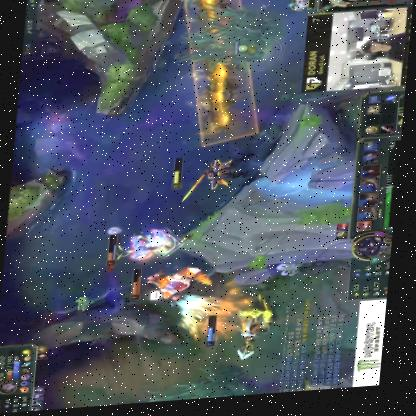streamer: (358, 39, 406, 72)
